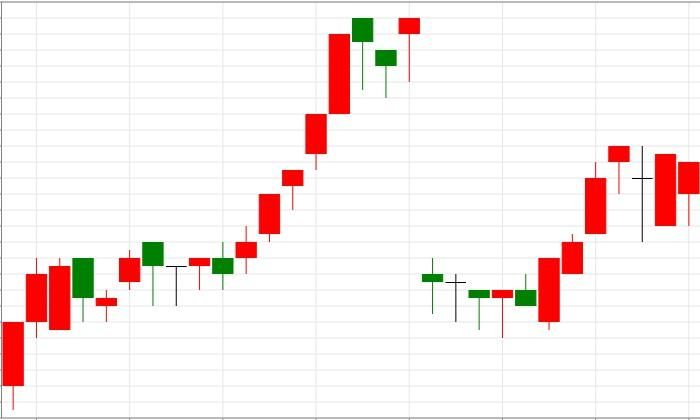hanging_man_fall: (236, 18, 374, 274)
